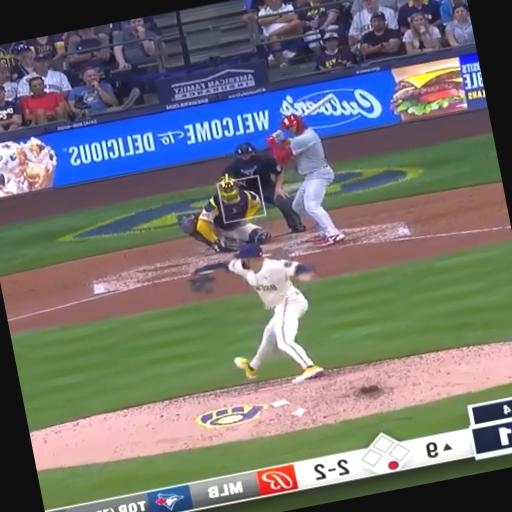bat: (300, 94, 334, 116), (301, 94, 334, 116), (301, 94, 333, 116)
